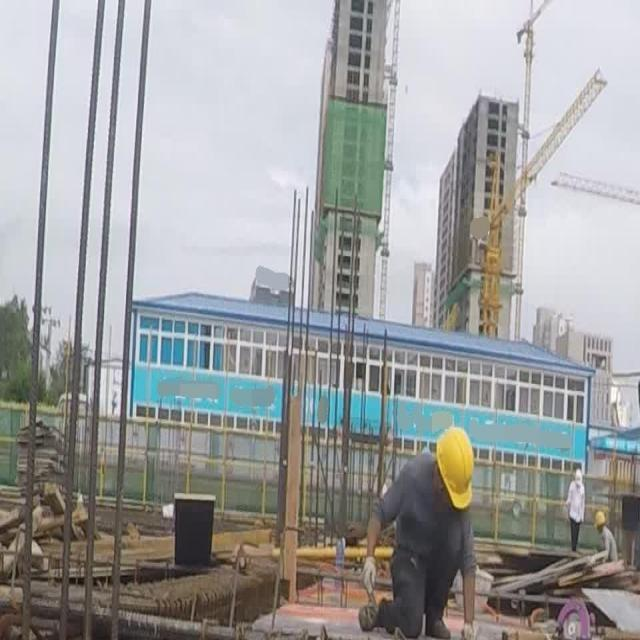crane: (468, 68, 616, 356), (511, 0, 565, 352), (546, 164, 640, 216)
